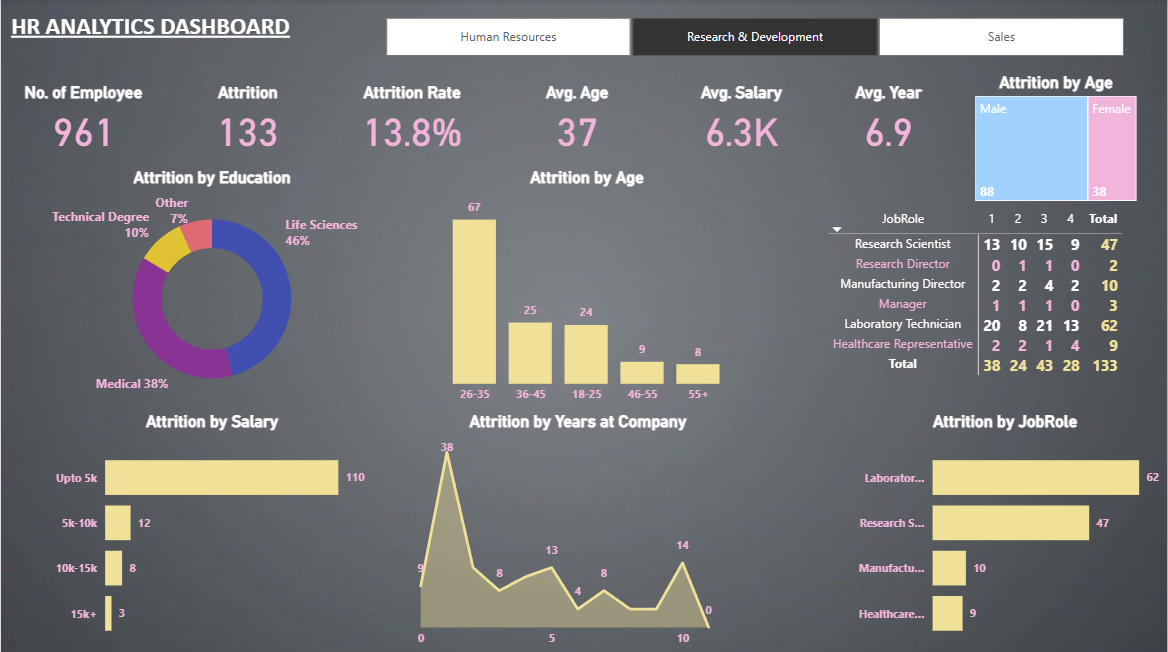

The dashboard page shown, as its layout file describes it:
{"tool":"powerbi","page":{"name":"Page 1","canvas":[1280,720],"ordinal":0},"visuals":[{"type":"card","title":"No. of Employee","fields":{"Values":["CountNonNull(HR_Analytics.EmpID)"]},"box":[0,92,181.1,80.6],"z":0},{"type":"card","title":"Attrition","fields":{"Values":["Sum(HR_Analytics.AttritionCount)"]},"box":[181.1,92,179.7,80.6],"z":1000},{"type":"card","title":"Attrition Rate","fields":{"Values":["HR_Analytics.AttritionRate"]},"box":[360.7,92,181.1,80.6],"z":2000},{"type":"card","title":"Avg. Age","fields":{"Values":["Avg(HR_Analytics.Age)"]},"box":[541.8,92,181.1,80.6],"z":3000},{"type":"card","title":"Avg. Salary","fields":{"Values":["Avg(HR_Analytics.MonthlyIncome)"]},"box":[722.9,92,179.7,80.6],"z":4000},{"type":"card","title":"Avg. Year ","fields":{"Values":["Avg(HR_Analytics.YearsAtCompany)"]},"box":[884.2,92,181.1,80.6],"z":5000},{"type":"donutChart","title":"Attrition by Education","fields":{"Category":["HR_Analytics.EducationField"],"Y":["CountNonNull(HR_Analytics.Attrition)"]},"box":[53.8,185.3,356.5,267.4],"z":6000},{"type":"columnChart","title":"Attrition by Age","fields":{"Category":["HR_Analytics.AgeGroup"],"Y":["Sum(HR_Analytics.AttritionCount)"]},"box":[466.8,185.3,353.7,267.4],"z":7000},{"type":"pivotTable","fields":{"Rows":["HR_Analytics.JobRole"],"Columns":["HR_Analytics.JobSatisfaction"],"Values":["Sum(HR_Analytics.AttritionCount)"]},"box":[902.6,226.3,374.9,267.4],"z":8000},{"type":"barChart","title":"Attrition by Salary","fields":{"Category":["HR_Analytics.SalarySlab"],"Y":["Sum(HR_Analytics.AttritionCount)"]},"box":[53.8,452.7,356.5,267.4],"z":9000},{"type":"barChart","title":"Attrition by JobRole","fields":{"Category":["HR_Analytics.JobRole"],"Y":["Sum(HR_Analytics.AttritionCount)"]},"box":[925.2,452.7,355.1,267.4],"z":10000},{"type":"areaChart","title":"Attrition by Years at Company","fields":{"Category":["HR_Analytics.YearsAtCompany"],"Y":["Sum(HR_Analytics.AttritionCount)"]},"box":[445.6,452.7,374.9,267.4],"z":11000},{"type":"treemap","title":"Attrition by Age","fields":{"Group":["HR_Analytics.Gender"],"Values":["Sum(HR_Analytics.AttritionCount)"]},"box":[1065.3,80.6,186.7,145.7],"z":12000},{"type":"slicer","fields":{"Values":["HR_Analytics.Department"]},"box":[396.1,0,860.1,69.3],"z":13000},{"type":"textbox","box":[0,8.5,328.2,60.8],"z":14000}]}

Visuals, with their boxes in screenshot pixels (x1, y1, x2, y2), scaled from the page's 1280x720 canvas onto the 1168x652 screenshot:
"No. of Employee" card: box=[0, 83, 165, 156]
"Attrition" card: box=[165, 83, 329, 156]
"Attrition Rate" card: box=[329, 83, 494, 156]
"Avg. Age" card: box=[494, 83, 660, 156]
"Avg. Salary" card: box=[660, 83, 824, 156]
"Avg. Year " card: box=[807, 83, 972, 156]
"Attrition by Education" donutChart: box=[49, 168, 374, 410]
"Attrition by Age" columnChart: box=[426, 168, 749, 410]
pivotTable - HR_Analytics.JobRole x HR_Analytics.JobSatisfaction: box=[824, 205, 1166, 447]
"Attrition by Salary" barChart: box=[49, 410, 374, 651]
"Attrition by JobRole" barChart: box=[844, 410, 1167, 651]
"Attrition by Years at Company" areaChart: box=[407, 410, 749, 651]
"Attrition by Age" treemap: box=[972, 73, 1142, 205]
slicer - HR_Analytics.Department: box=[361, 0, 1146, 63]
textbox: box=[0, 8, 299, 63]
